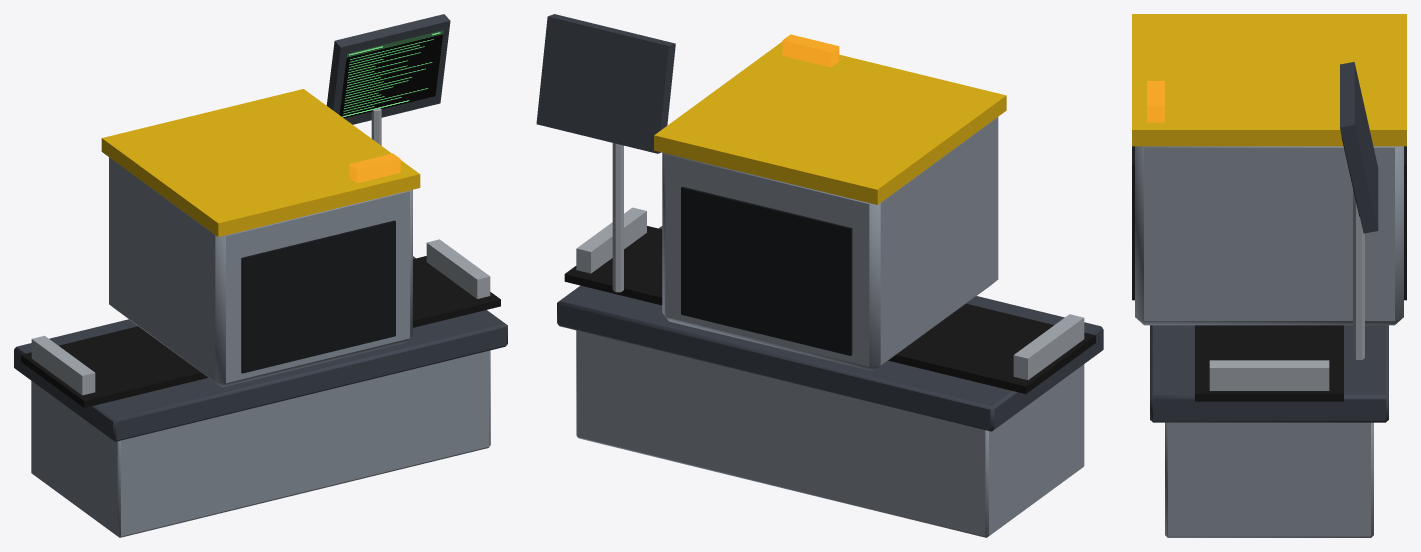
File: cell_contraband_xray_table.glb
3 views of the same model, side by side, from view 1: azimuth 30°, elevation 25°; view 2: azimuth 150°, elevation 25°; view 3: azimuth 270°, elevation 25° (orthographic). The views are drawn at different scales.
Visible parts, largest first — view 1: cell_contraband_xray_table; view 2: cell_contraband_xray_table; view 3: cell_contraband_xray_table.
Boxes of the visible parts, x1=… form: cell_contraband_xray_table: x1=14, y1=14, x2=507, y2=537; cell_contraband_xray_table: x1=536, y1=14, x2=1103, y2=537; cell_contraband_xray_table: x1=1132, y1=14, x2=1406, y2=537.
Size of the model in its own units: 1.95 by 1.6 by 0.92.
8 materials, 1 textured.
